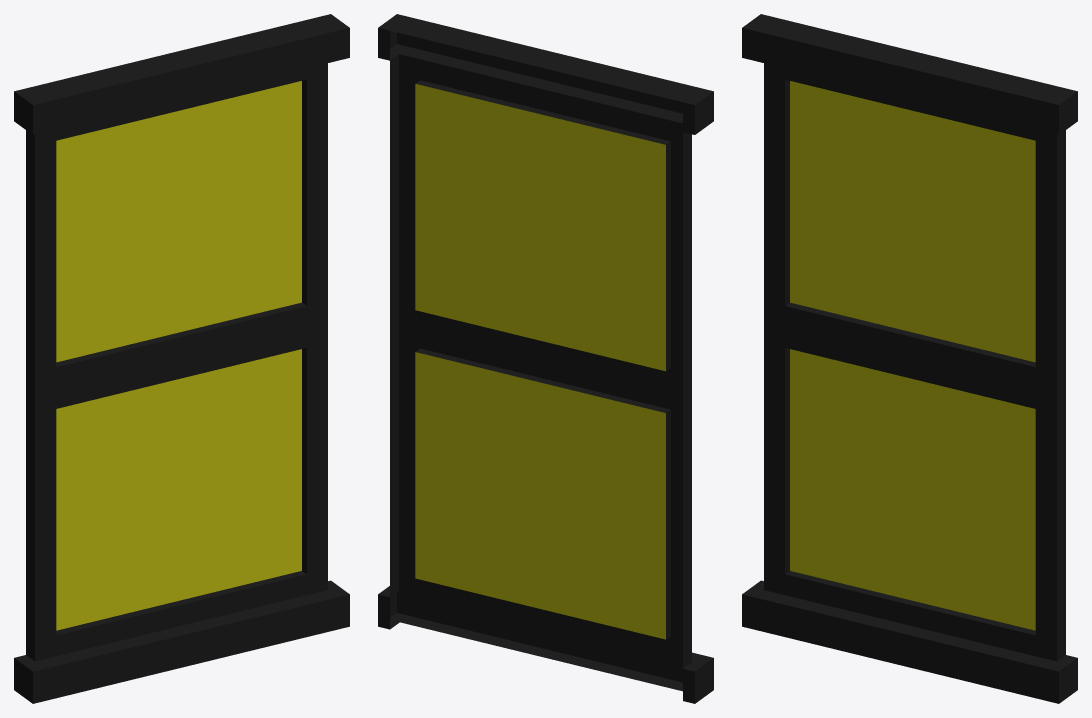
The model's file is Fenêtre.fbx.
3 renders of one model, left to right at view 1: azimuth 30°, elevation 25°; view 2: azimuth 150°, elevation 25°; view 3: azimuth 330°, elevation 25°, orthographic.
Visible parts, largest first — view 1: Plane008; view 2: Plane008; view 3: Plane008.
Boxes of the visible parts, left/top/right/bottom form: Plane008: left=14, top=14, right=349, bottom=703; Plane008: left=378, top=14, right=713, bottom=703; Plane008: left=742, top=14, right=1077, bottom=703.
Size of the model in its own units: 93.84 by 169 by 9.69.
